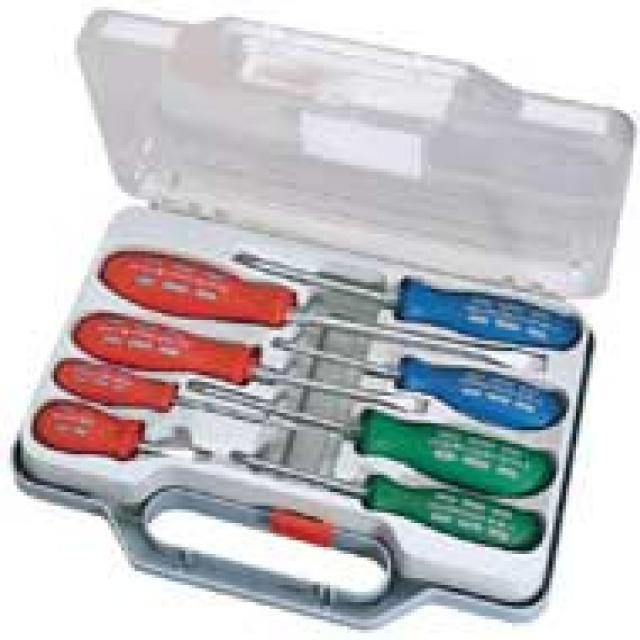screwdriver: (100, 242, 562, 376), (183, 378, 572, 506), (220, 432, 541, 558), (75, 312, 433, 421), (227, 245, 588, 352), (274, 336, 566, 434), (43, 351, 284, 433), (34, 394, 218, 488)
